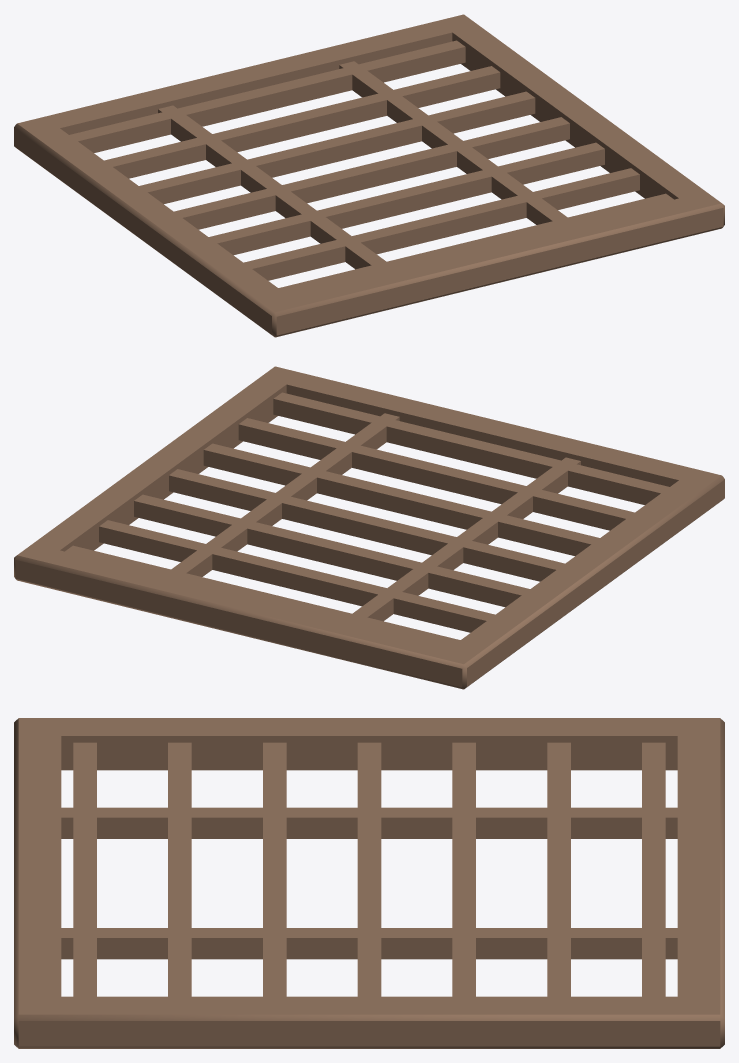
The model's file is iron-grate-v01.glb.
The picture shows the model from 3 angles, top to bottom: view 1: azimuth 30°, elevation 25°; view 2: azimuth 150°, elevation 25°; view 3: azimuth 270°, elevation 25°; orthographic projection. The views are drawn at different scales.
Visible parts, largest first — view 1: iron-grate; view 2: iron-grate; view 3: iron-grate.
Boxes of the visible parts, x1,y1,x2,y2 form: iron-grate: (14,14,724,337); iron-grate: (14,366,724,689); iron-grate: (14,718,724,1048).
Size of the model in its own units: 1.5 by 0.08 by 1.5.
